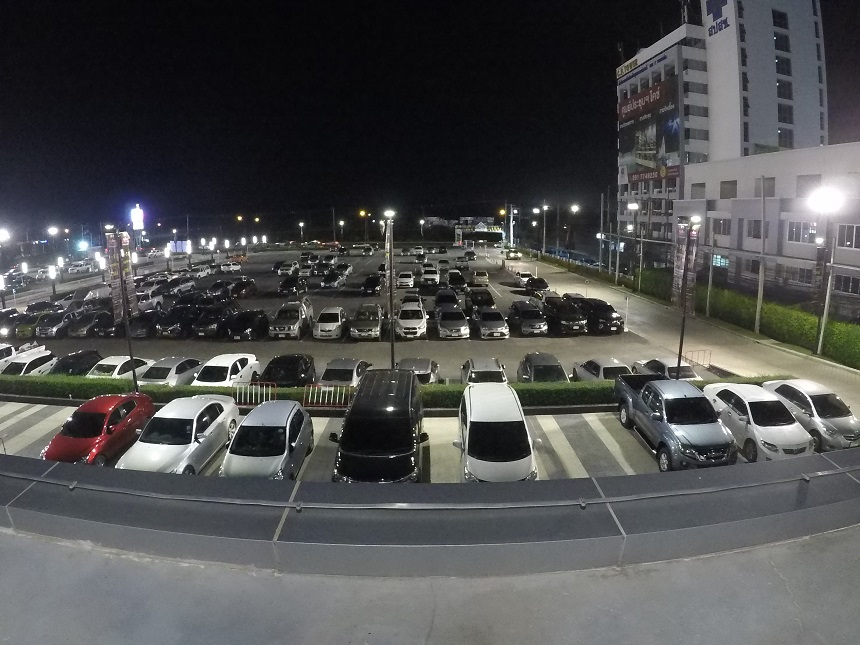busy: (334, 424, 424, 482), (655, 416, 731, 463), (137, 416, 211, 463), (460, 430, 537, 475), (237, 421, 303, 472), (60, 413, 123, 455), (748, 419, 812, 455), (820, 405, 860, 446), (519, 351, 570, 382), (458, 357, 509, 380), (317, 359, 365, 383), (579, 349, 619, 377), (256, 360, 306, 382), (151, 352, 189, 380), (202, 356, 248, 379), (93, 352, 136, 376), (398, 355, 436, 380), (434, 318, 470, 341), (267, 317, 305, 338), (192, 314, 224, 337), (593, 311, 626, 333), (229, 317, 259, 340), (351, 317, 382, 339), (551, 312, 584, 332), (317, 315, 344, 339), (476, 319, 509, 338), (644, 358, 683, 374), (396, 317, 427, 337), (516, 317, 548, 336), (57, 352, 83, 372), (158, 317, 186, 335), (16, 358, 45, 375), (128, 318, 153, 337), (41, 320, 67, 337), (95, 320, 120, 336), (70, 323, 93, 337), (1, 349, 14, 365), (18, 325, 35, 336), (1, 321, 14, 335)
